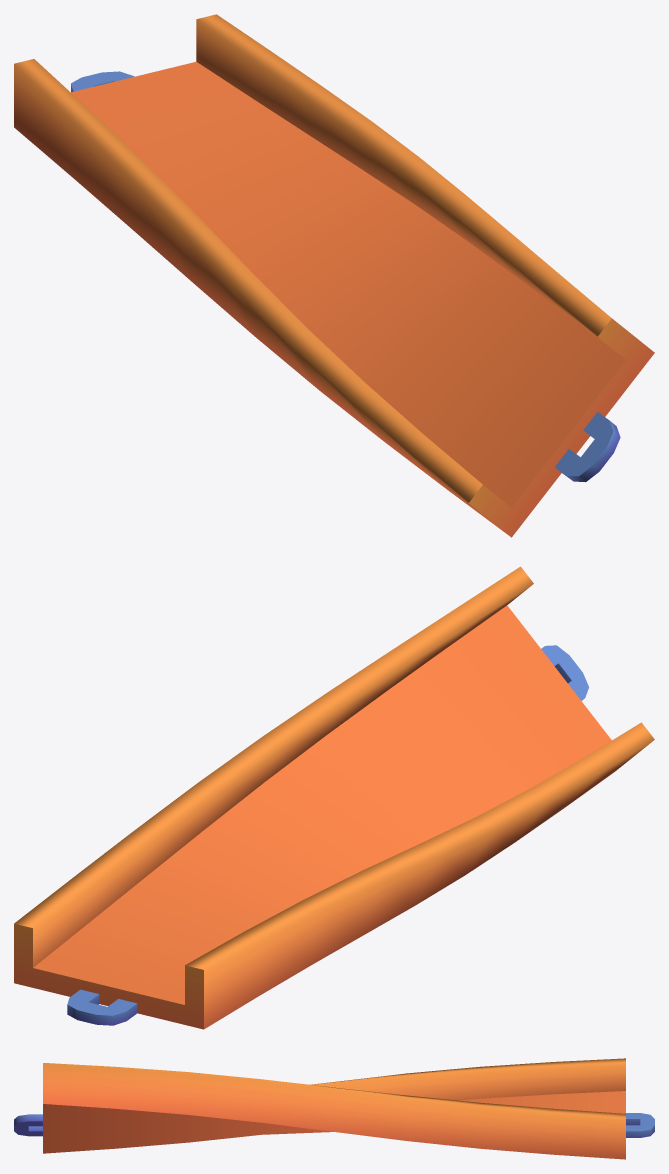
File: kenney-toy-car-track-narrow-straight-skew-right.glb
3 views of the same model, one above another, from view 1: azimuth 30°, elevation 25°; view 2: azimuth 150°, elevation 25°; view 3: azimuth 270°, elevation 25° (orthographic). The views are drawn at different scales.
Visible parts, largest first — view 1: track-narrow-straight-skew-right; view 2: track-narrow-straight-skew-right; view 3: track-narrow-straight-skew-right.
Part boxes in pixels (x1=…): track-narrow-straight-skew-right: x1=14, y1=14, x2=654, y2=537; track-narrow-straight-skew-right: x1=14, y1=566, x2=654, y2=1029; track-narrow-straight-skew-right: x1=14, y1=1058, x2=654, y2=1159.
Bounding box in the file's own units: 1.08 × 0.919 × 4.4.
Materials: 1 (1 with a texture image).
